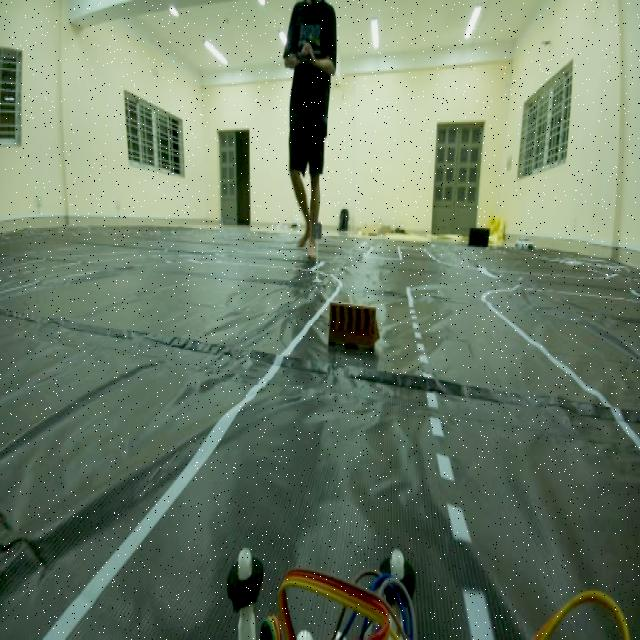roadblock: (323, 293, 382, 363)
